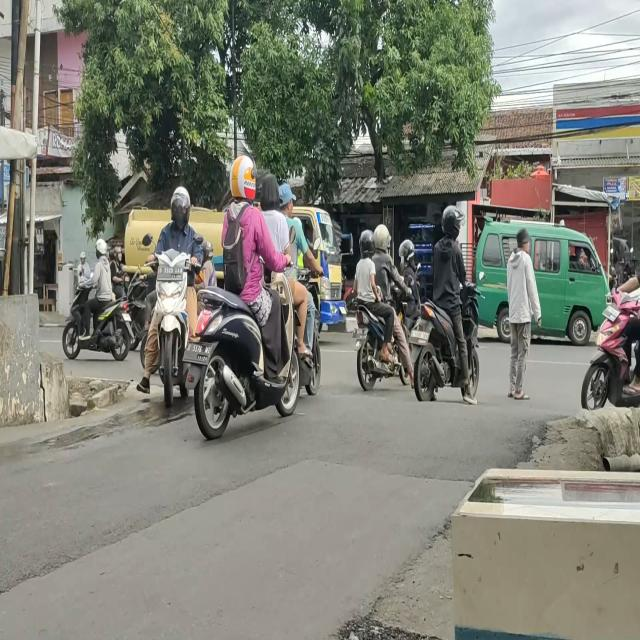helmet: (229, 156, 257, 202), (172, 186, 190, 228), (440, 202, 460, 236), (374, 224, 390, 252), (361, 226, 375, 253), (95, 241, 106, 258)
no-helmet: (281, 182, 301, 214), (263, 178, 281, 210)
